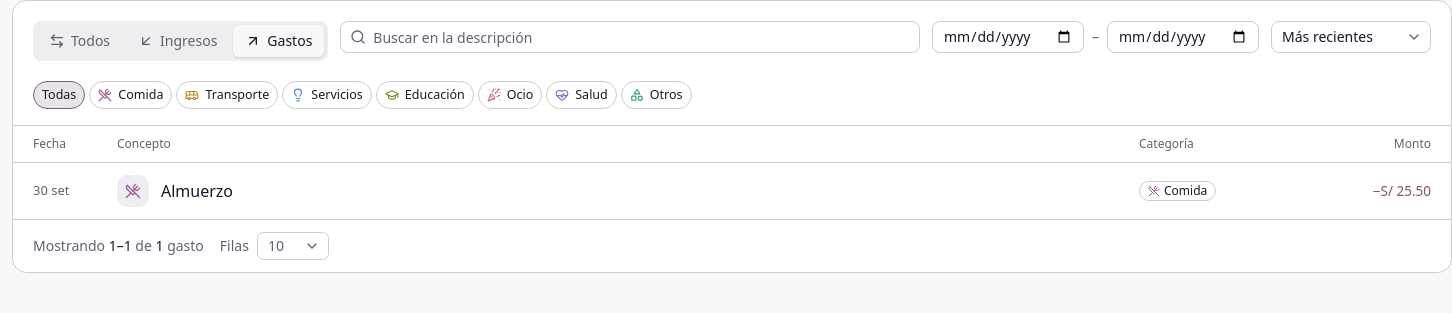
Test case: ExpensesPage › las categorias filtran la lista
Click the button "Transporte" at (227, 95), box [176,81,278,109]
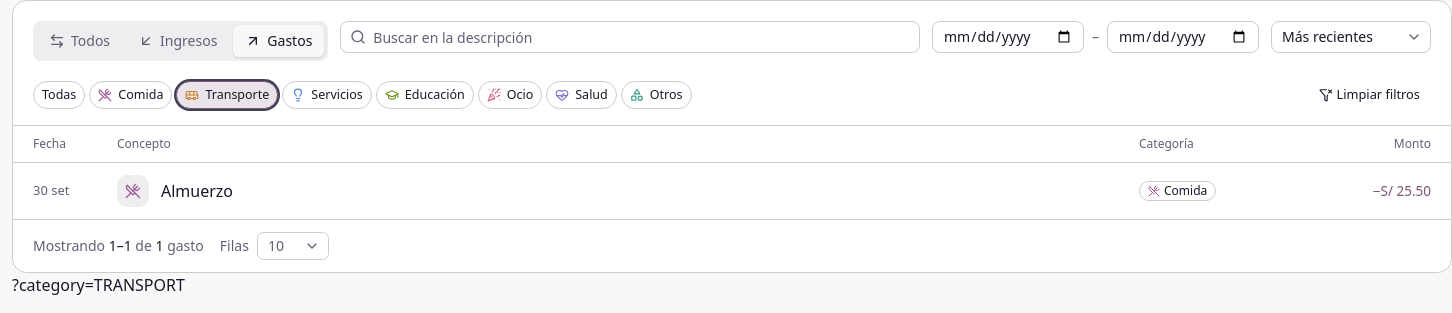
Now the text with test id "url" reads "?category=TRANSPORT", box [12,274,185,296]
